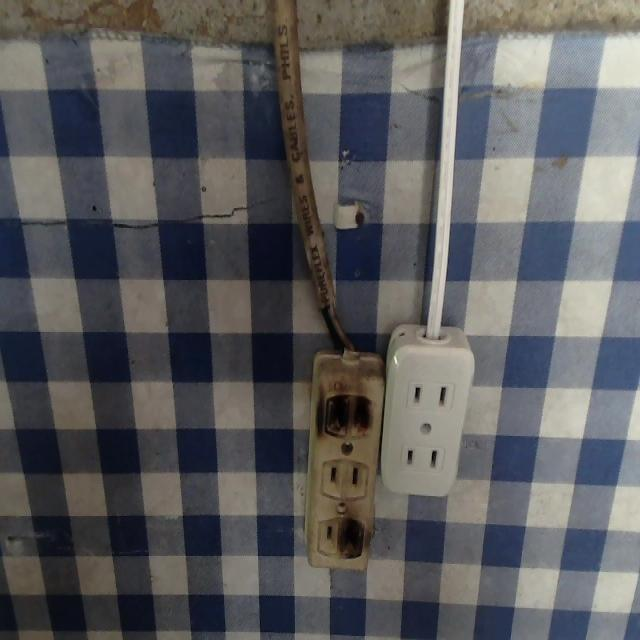-: (323, 388, 375, 437), (334, 514, 366, 562)
